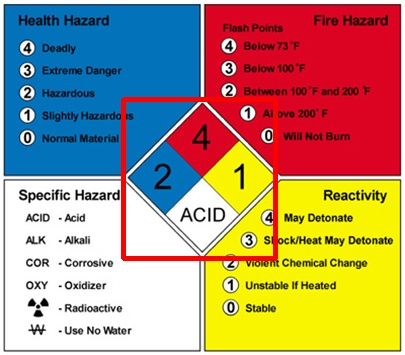nfpa: (123, 99, 275, 258)
